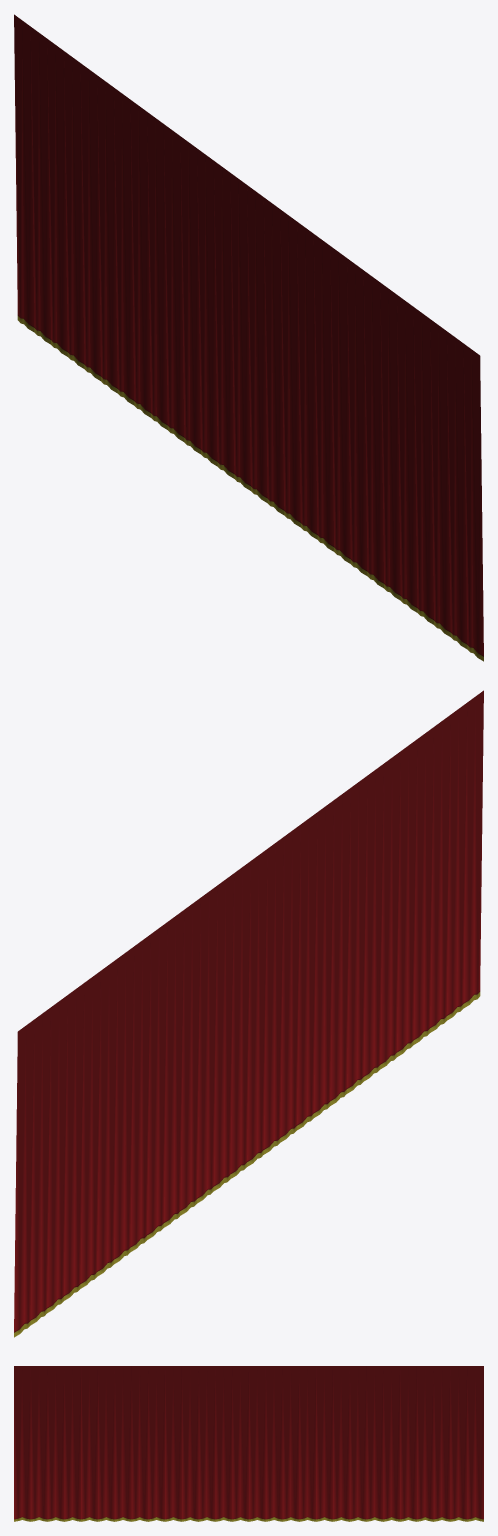
File: stage_curtains.fbx
The picture shows the model from 3 angles, top to bottom: view 1: azimuth 30°, elevation 25°; view 2: azimuth 150°, elevation 25°; view 3: azimuth 270°, elevation 25°; orthographic projection. The views are drawn at different scales.
Visible parts, largest first — view 1: Stage Curtains; view 2: Stage Curtains; view 3: Stage Curtains.
Part boxes in pixels (left/top/right/bottom): Stage Curtains: left=14, top=14, right=483, bottom=661; Stage Curtains: left=14, top=690, right=483, bottom=1337; Stage Curtains: left=14, top=1366, right=483, bottom=1521.
Bounding box in the file's own units: 0.0808 × 6.2 × 17.07.
